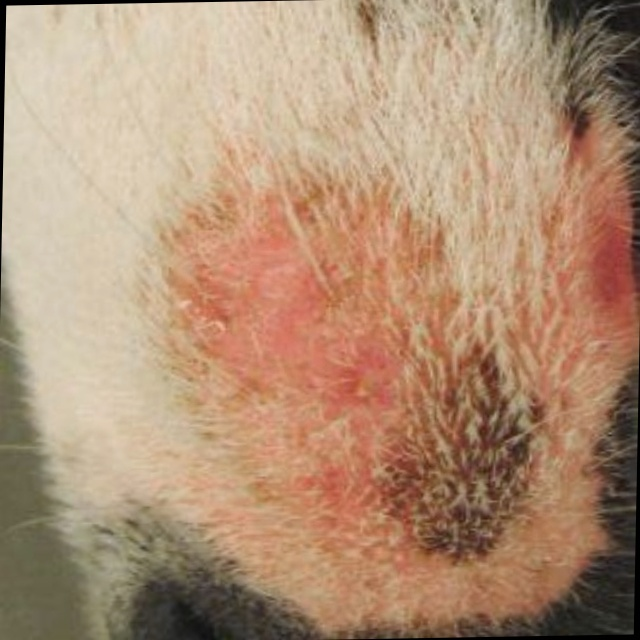ringworm: (220, 218, 409, 529)
